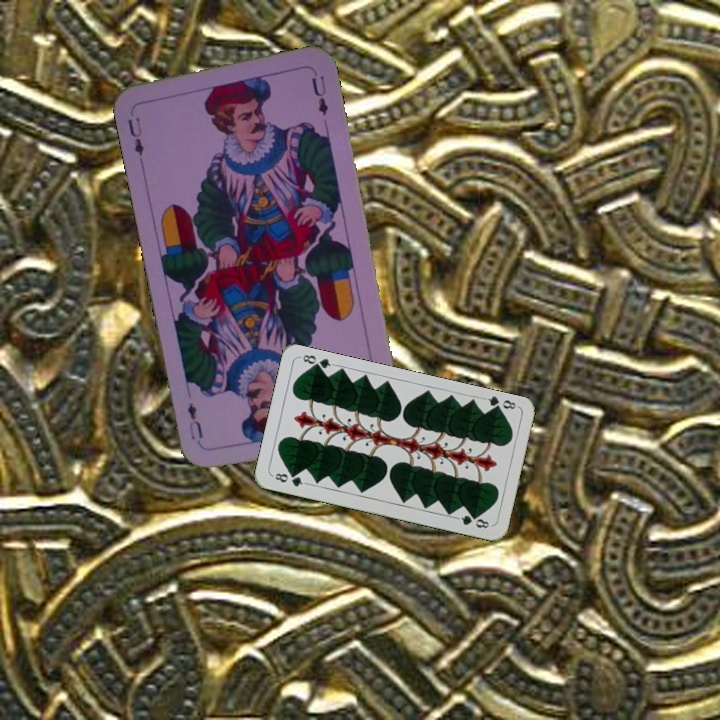EU: (123, 113, 147, 159)
G8: (480, 392, 520, 415), (269, 469, 309, 489)
